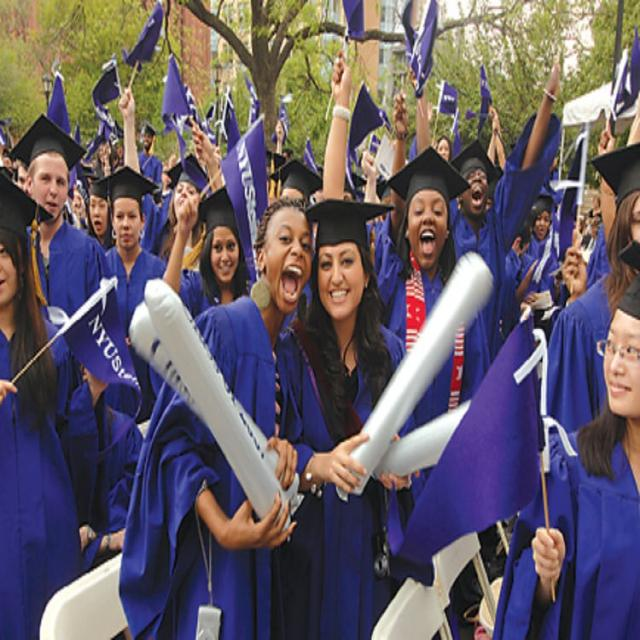body: (117, 194, 316, 640), (369, 85, 495, 640), (267, 194, 423, 639), (494, 236, 640, 640), (6, 112, 125, 540), (409, 52, 564, 370), (160, 182, 387, 390), (0, 168, 87, 638), (544, 141, 640, 442), (323, 93, 512, 212), (88, 163, 170, 431), (153, 117, 321, 238), (116, 81, 214, 275), (565, 80, 640, 276), (511, 193, 563, 344), (67, 134, 124, 226), (84, 170, 121, 252), (2, 128, 28, 214), (136, 122, 164, 186)
